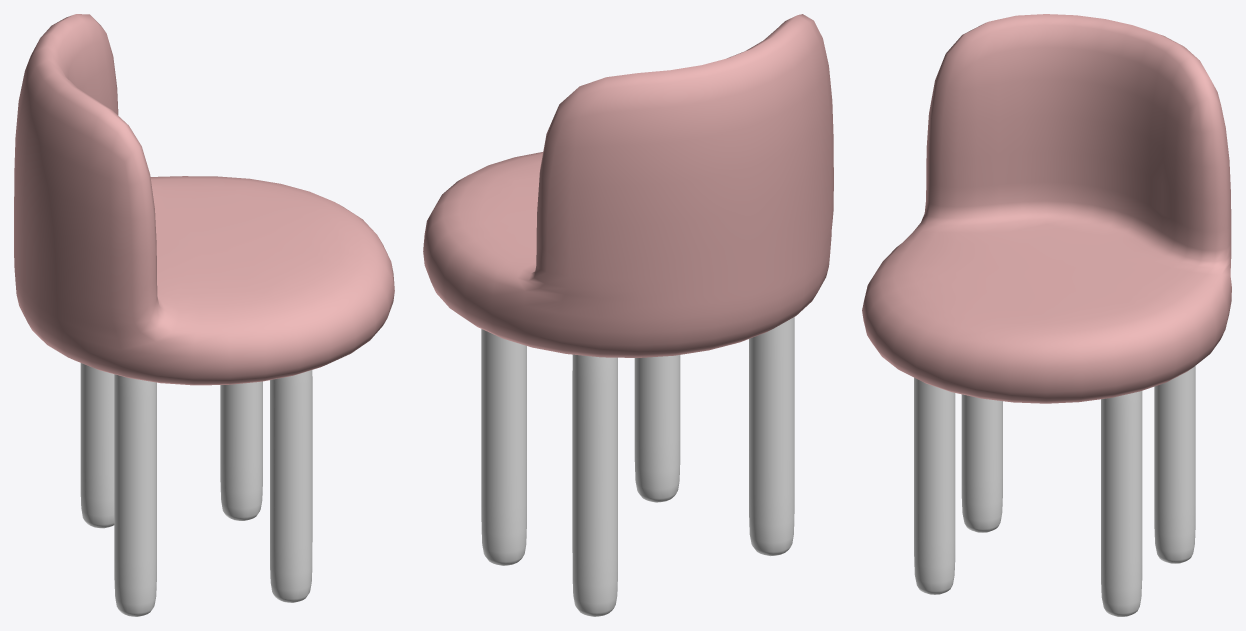
Rendered from chair3.glb.
3 views of the same model, side by side, from view 1: azimuth 30°, elevation 25°; view 2: azimuth 150°, elevation 25°; view 3: azimuth 270°, elevation 25° (orthographic). The views are drawn at different scales.
Parts seen in each view (by area): view 1: chair.002, Cylinder.001, Cylinder.003, Cylinder.004, Cylinder.002; view 2: chair.002, Cylinder.002, Cylinder.004, Cylinder.001, Cylinder.003; view 3: chair.002, Cylinder.004, Cylinder.003, Cylinder.002, Cylinder.001.
Part boxes in pixels (x1,y1,x2,y2): chair.002: [14, 14, 394, 385]; Cylinder.001: [114, 374, 156, 616]; Cylinder.003: [270, 370, 312, 602]; Cylinder.004: [220, 381, 262, 520]; Cylinder.002: [80, 363, 114, 528]; chair.002: [423, 14, 833, 357]; Cylinder.002: [572, 354, 617, 616]; Cylinder.004: [481, 329, 526, 565]; Cylinder.001: [749, 317, 794, 556]; Cylinder.003: [634, 355, 680, 502]; chair.002: [862, 14, 1231, 403]; Cylinder.004: [1101, 391, 1142, 616]; Cylinder.003: [914, 377, 955, 594]; Cylinder.002: [1154, 366, 1195, 563]; Cylinder.001: [961, 394, 1002, 532].
Size of the model in its own units: 0.6607 by 0.9818 by 0.6592.
